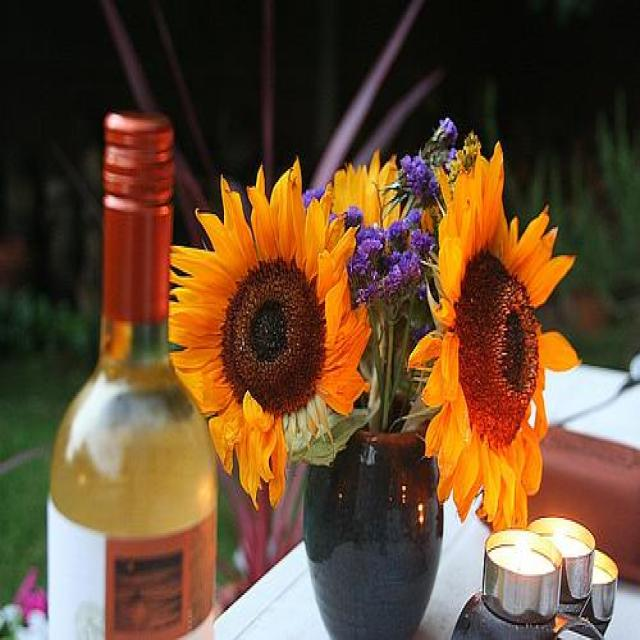sunflower: (171, 156, 370, 509), (408, 138, 582, 534)
